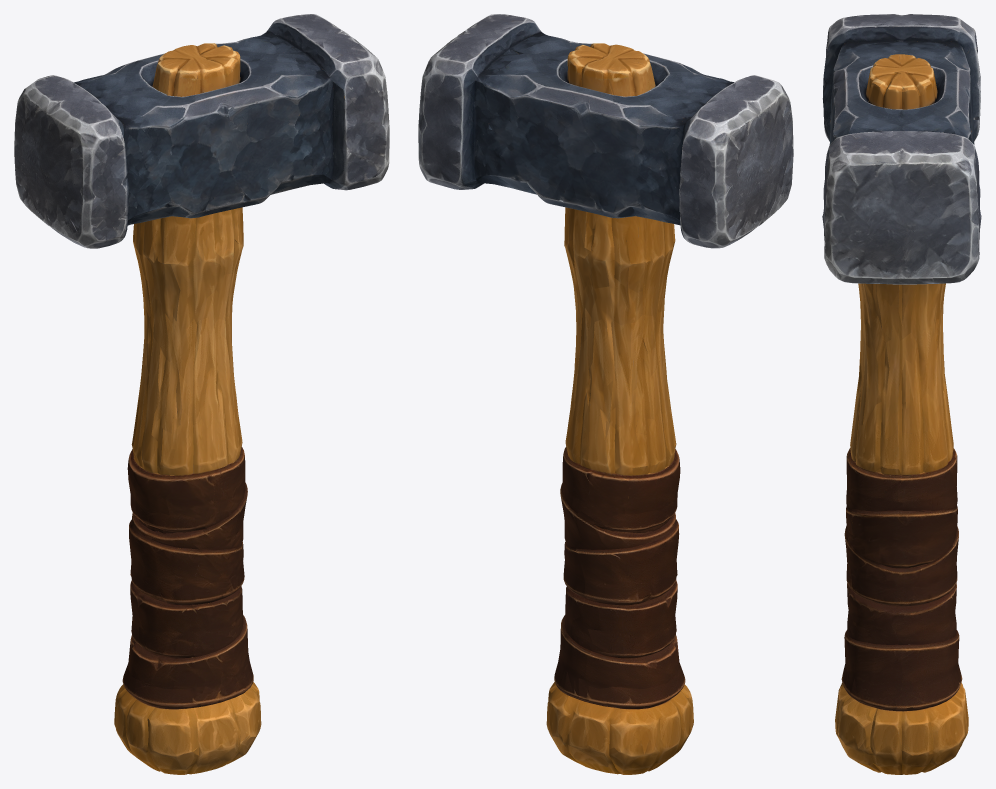
The picture shows the model from 3 angles, left to right: view 1: azimuth 30°, elevation 25°; view 2: azimuth 150°, elevation 25°; view 3: azimuth 270°, elevation 25°; orthographic projection.
Bounding box in the file's own units: 0.906 × 1.9 × 0.3969.
Materials: 1 (1 with a texture image).
